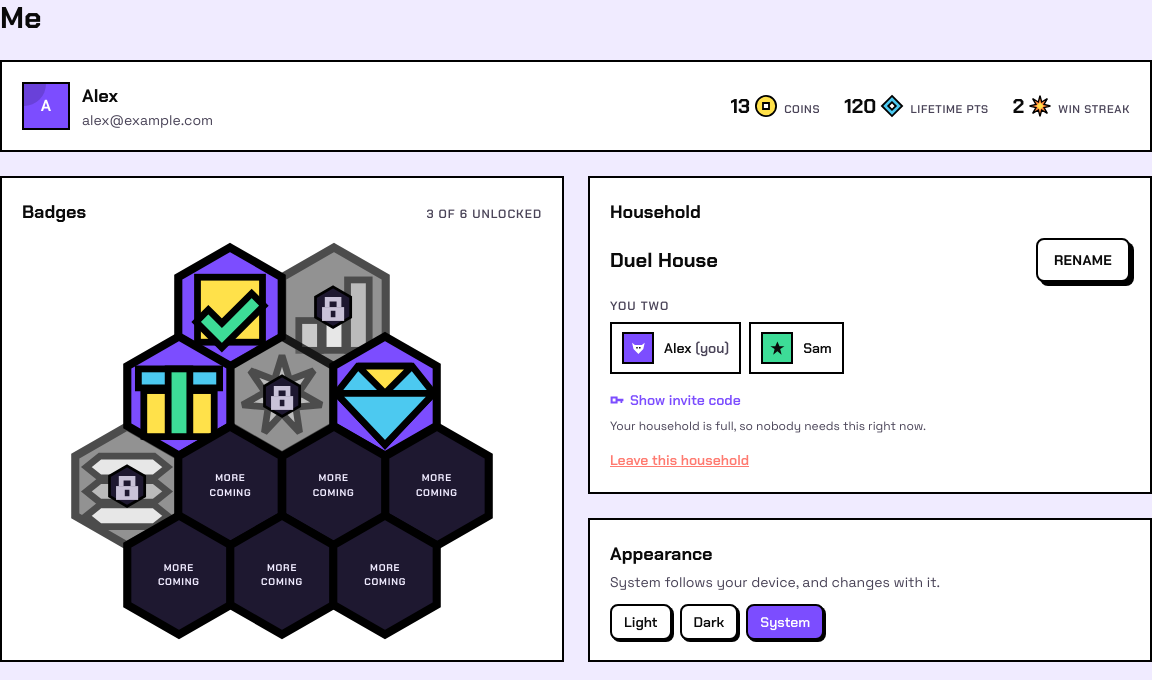
leaving › asks first, and sends nothing until confirmed
This screenshot has width=1152, height=680.
Click the button "Leave this household" at point(680, 460), box x1=610 y1=450 x2=749 y2=470
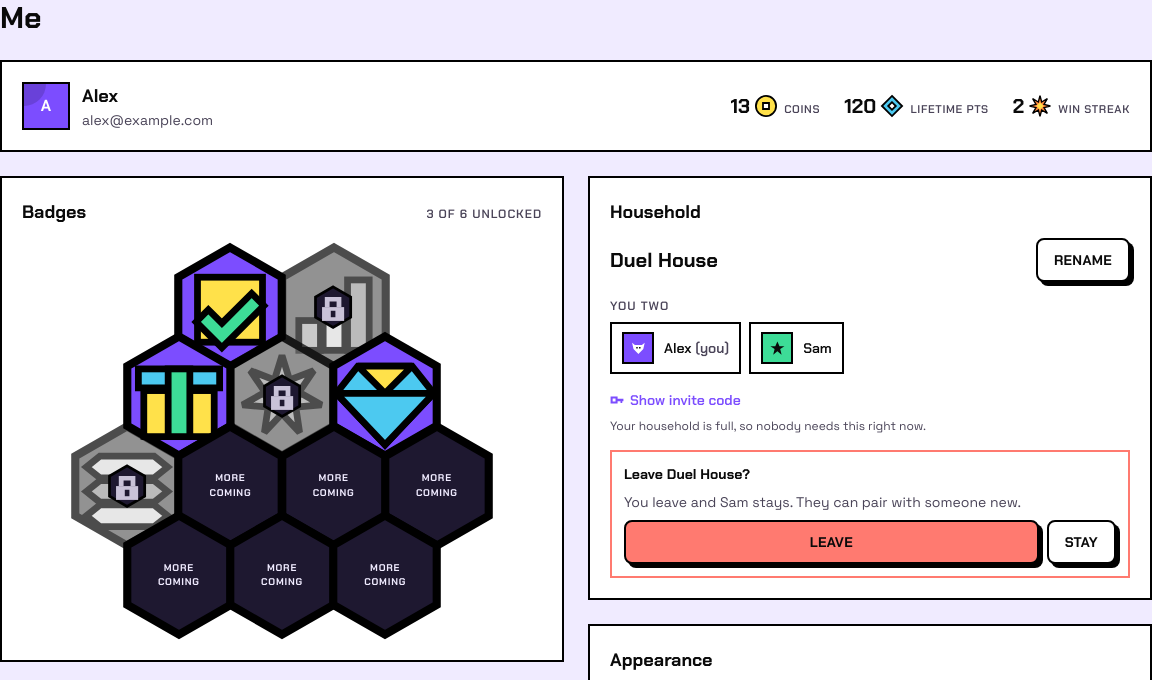
Expected: the text "Leave Duel House?" is shown, x1=624 y1=465 x2=750 y2=483
